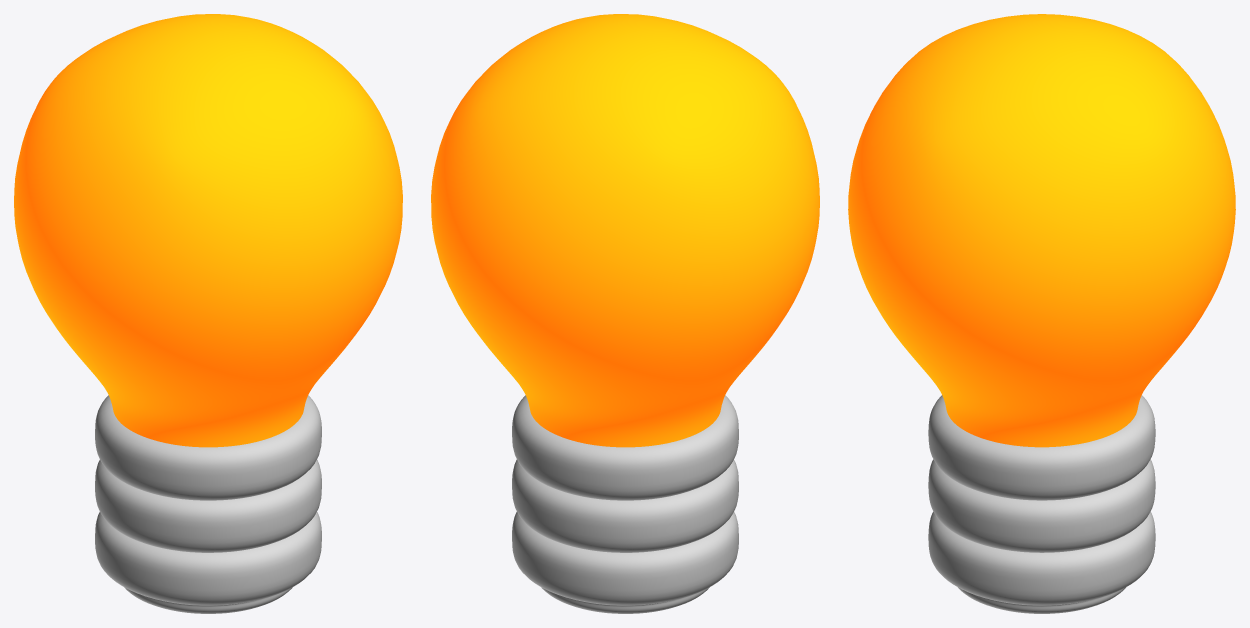
Rendered from bulb.glb.
The picture shows the model from 3 angles, left to right: view 1: azimuth 30°, elevation 25°; view 2: azimuth 150°, elevation 25°; view 3: azimuth 270°, elevation 25°; orthographic projection.
Parts seen in each view (by area): view 1: Torus.004; view 2: Torus.004; view 3: Torus.004.
Boxes of the visible parts, <box> form: Torus.004: <box>14,14,402,613</box>; Torus.004: <box>431,14,819,613</box>; Torus.004: <box>848,14,1235,613</box>.
Bounding box in the file's own units: 1.25 × 1.96 × 1.25.
